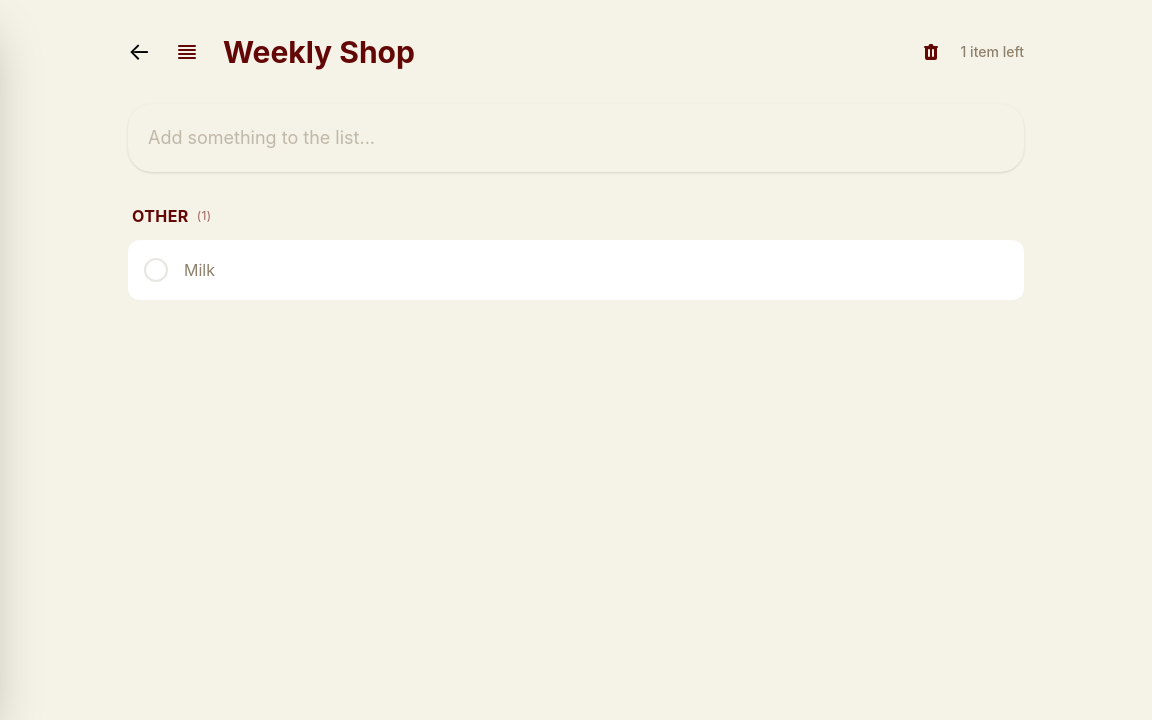
Test: ActiveList — add item › shows duplicate confirmation when item already exists
This screenshot has width=1152, height=720.
Type "milk" into the field with placeholder "Add something to the list...".
click(576, 138); type("milk")  # box [128,104,1024,172]
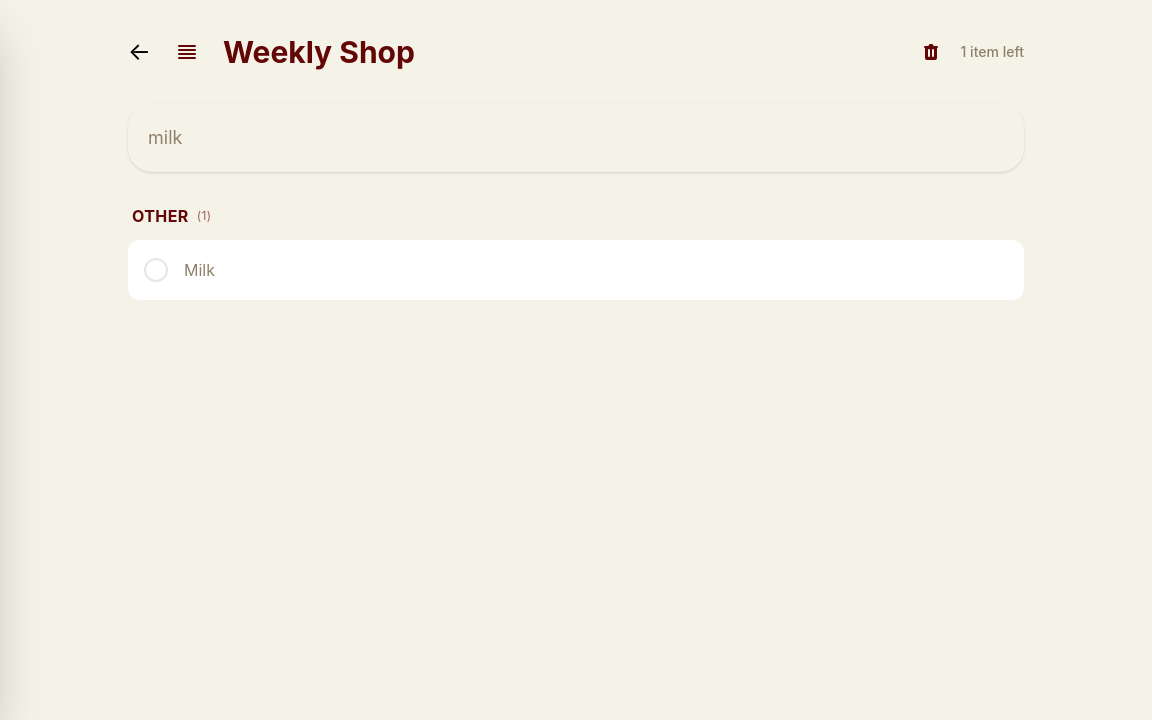
Submit the form with placeholder "add", box [128,104,1024,172]
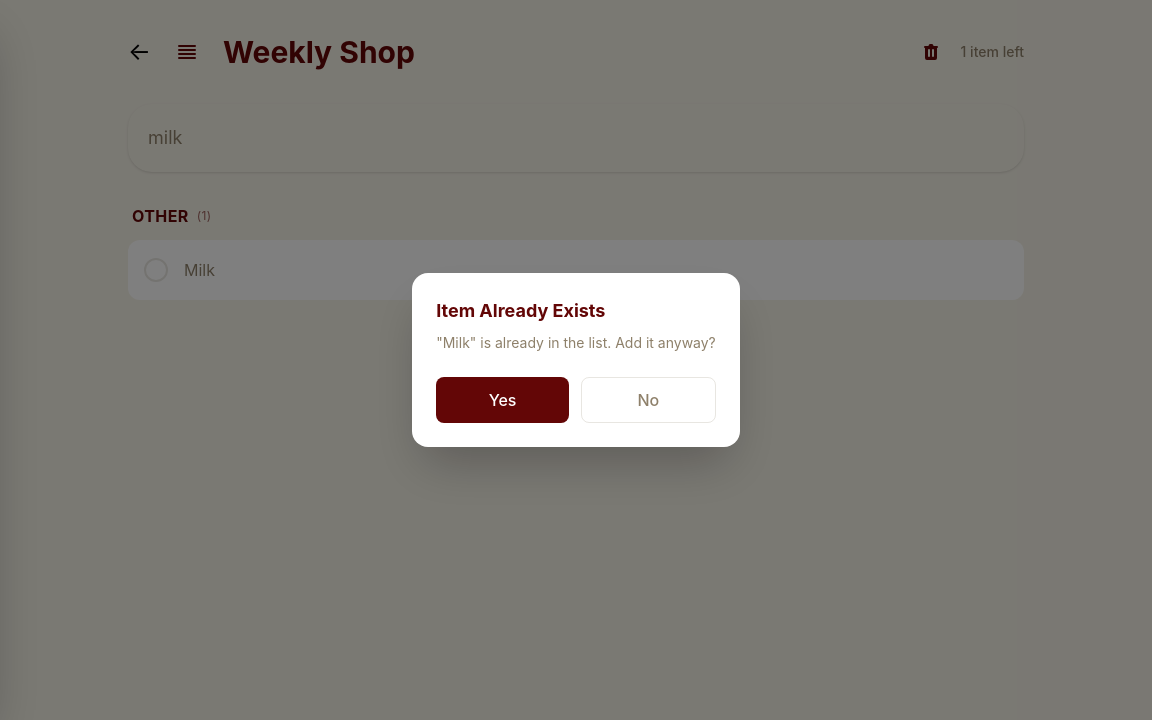
Expected: the heading "Item Already Exists" is shown, [436,300,605,321]
